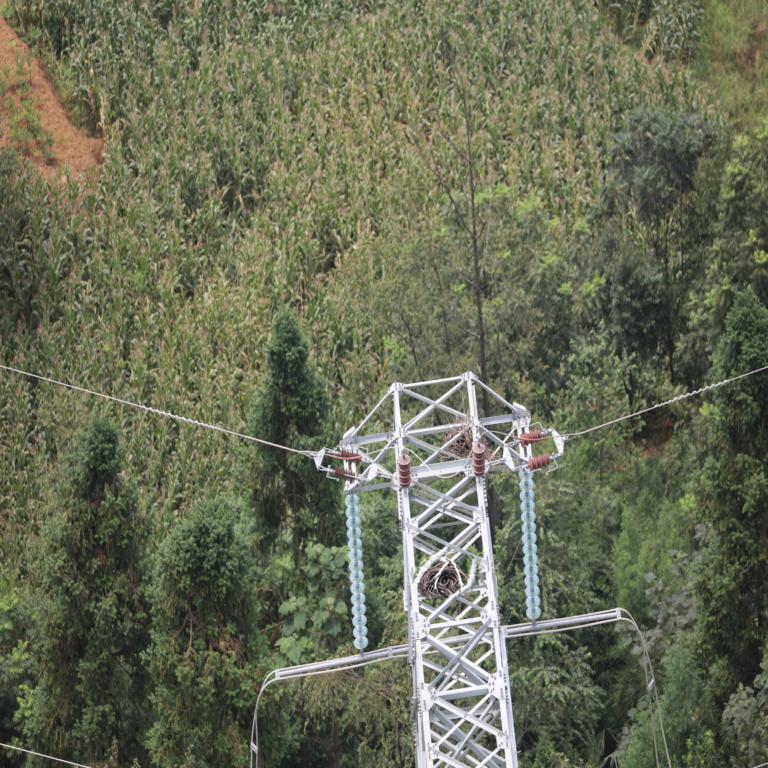nest: (444, 417, 491, 463), (424, 562, 463, 598)
